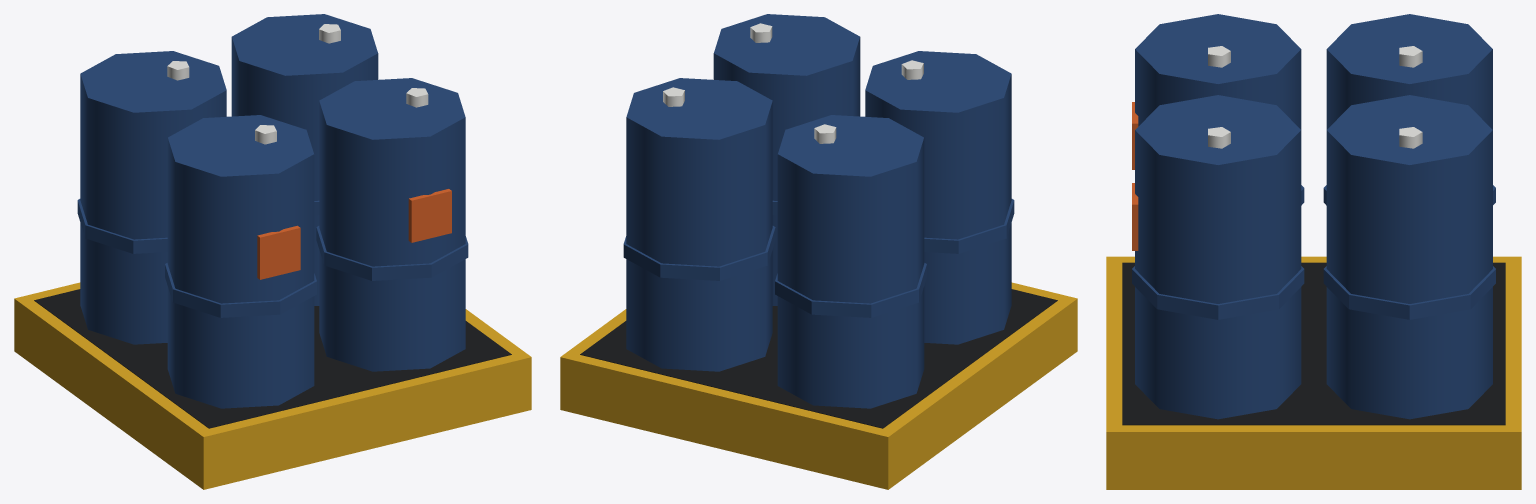
The model's file is chemical_drums.glb.
3 views of the same model, side by side, from view 1: azimuth 30°, elevation 25°; view 2: azimuth 150°, elevation 25°; view 3: azimuth 270°, elevation 25° (orthographic). The views are drawn at different scales.
Visible parts, largest first — view 1: chemical_drums; view 2: chemical_drums; view 3: chemical_drums.
Boxes of the visible parts, <box> form: chemical_drums: <box>14,14,531,489</box>; chemical_drums: <box>560,14,1077,489</box>; chemical_drums: <box>1106,14,1521,489</box>.
Size of the model in its own units: 1.3 by 1.12 by 1.3.
1 material, 1 textured.
